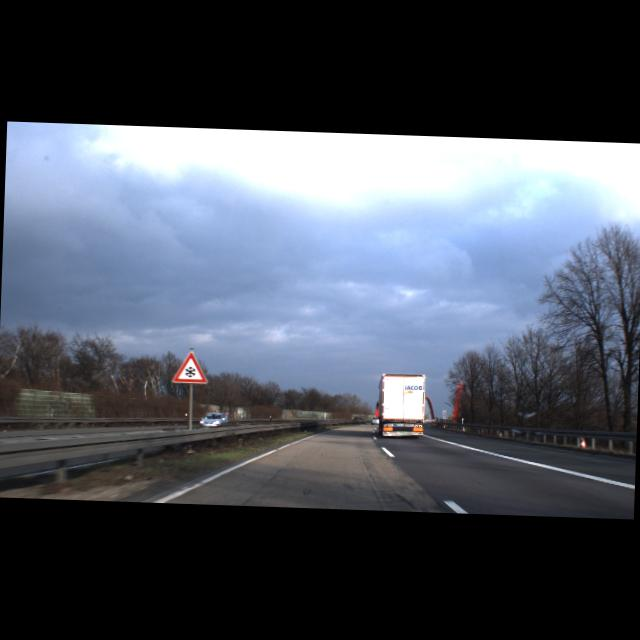danger: (171, 350, 208, 383)
